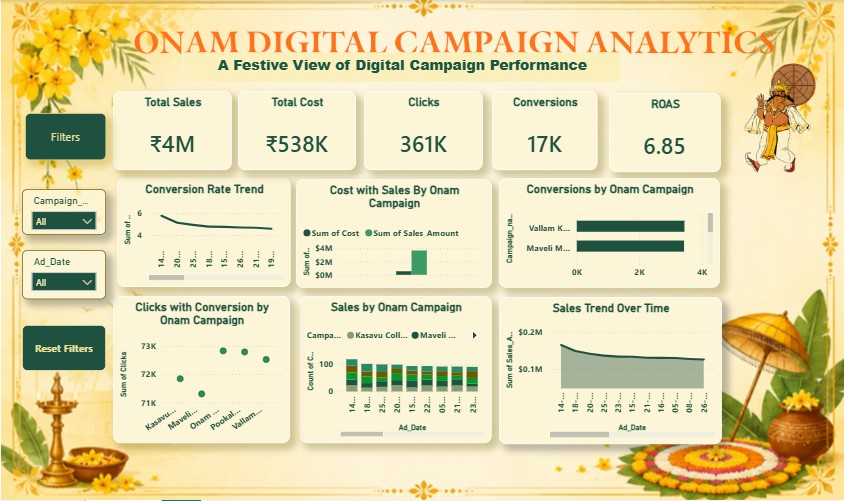

The page's visual inventory and layout, read from the dashboard file:
{"tool":"powerbi","page":{"name":"Page 1","canvas":[1280,720],"ordinal":0},"visuals":[{"type":"textbox","title":"A Festive View of Digital Campaign Performance ","box":[294,75.6,629.9,43.7],"z":0},{"type":"lineChart","title":"Conversion Rate Trend ","fields":{"Category":["GoogleAds Cleaned Data.Ad_Date"],"Y":["Sum(GoogleAds Cleaned Data.Conversion Rate)"]},"box":[198.2,257,250.5,157.2],"z":1000},{"type":"cardVisual","title":"Total  Sales","fields":{"Data":["GoogleAds Cleaned Data.Total Sales"]},"box":[193.5,131.3,171,114],"z":2000},{"type":"cardVisual","title":"Total Cost","fields":{"Data":["GoogleAds Cleaned Data.Total Cost"]},"box":[372.9,131,169.7,114.2],"z":3000},{"type":"cardVisual","title":"Clicks","fields":{"Data":["Sum(GoogleAds Cleaned Data.Clicks)"]},"box":[554.5,131.3,171,114],"z":4000},{"type":"cardVisual","title":"Conversions","fields":{"Data":["Sum(GoogleAds Cleaned Data.Conversions)"]},"box":[738.3,131.6,152.1,114.5],"z":5000},{"type":"cardVisual","title":"ROAS","fields":{"Data":["GoogleAds Cleaned Data.Roas"]},"box":[907.4,133.3,160.6,114.5],"z":6000},{"type":"clusteredColumnChart","title":"Cost  with Sales By Onam Campaign","fields":{"Y":["Sum(GoogleAds Cleaned Data.Cost )","Sum(GoogleAds Cleaned Data.Sales_Amount)"]},"box":[456.5,257.8,282.2,157],"z":7000},{"type":"barChart","title":"Conversions by Onam Campaign","fields":{"Category":["GoogleAds Cleaned Data.Campaign_name"],"Y":["Sum(GoogleAds Cleaned Data.Conversions)"]},"box":[748.8,256.3,318.2,158.4],"z":8000},{"type":"columnChart","title":" Sales by Onam Campaign","fields":{"Category":["GoogleAds Cleaned Data.Ad_Date"],"Series":["GoogleAds Cleaned Data.Campaign_name"],"Y":["CountNonNull(GoogleAds Cleaned Data.Campaign_name)"]},"box":[462.7,426.7,275.9,212.5],"z":9000},{"type":"scatterChart","title":"Clicks with Conversion by Onam Campaign","fields":{"X":["GoogleAds Cleaned Data.Campaign_name"],"Y":["Sum(GoogleAds Cleaned Data.Clicks)"]},"box":[193.6,426.7,255.3,212.5],"z":10000},{"type":"areaChart","title":"Sales Trend Over Time","fields":{"Category":["GoogleAds Cleaned Data.Ad_Date"],"Y":["Sum(GoogleAds Cleaned Data.Sales_Amount)"]},"box":[748.8,427.7,321.1,211.7],"z":11000},{"type":"slicer","fields":{"Values":["GoogleAds Cleaned Data.Campaign_name"]},"box":[61.9,272.2,120.9,65.5],"z":12000},{"type":"slicer","fields":{"Values":["GoogleAds Cleaned Data.Ad_Date"]},"box":[61.9,360,120.9,70.6],"z":13000},{"type":"actionButton","box":[61.9,468,121,66.2],"z":14000},{"type":"actionButton","box":[66.2,162.7,116.6,67.7],"z":15000}]}

Visuals, with their boxes on the page's 1280x720 design canvas (x1, y1, x2, y2). These are canvas units, not pixel positions in the 844x501 screenshot, which may show the page scaled, cropped or inside an application window:
"A Festive View of Digital Campaign Performance " textbox: box=[294, 76, 924, 119]
"Conversion Rate Trend " lineChart: box=[198, 257, 449, 414]
"Total  Sales" cardVisual: box=[194, 131, 364, 245]
"Total Cost" cardVisual: box=[373, 131, 543, 245]
"Clicks" cardVisual: box=[554, 131, 726, 245]
"Conversions" cardVisual: box=[738, 132, 890, 246]
"ROAS" cardVisual: box=[907, 133, 1068, 248]
"Cost  with Sales By Onam Campaign" clusteredColumnChart: box=[456, 258, 739, 415]
"Conversions by Onam Campaign" barChart: box=[749, 256, 1067, 415]
" Sales by Onam Campaign" columnChart: box=[463, 427, 739, 639]
"Clicks with Conversion by Onam Campaign" scatterChart: box=[194, 427, 449, 639]
"Sales Trend Over Time" areaChart: box=[749, 428, 1070, 639]
slicer - GoogleAds Cleaned Data.Campaign_name: box=[62, 272, 183, 338]
slicer - GoogleAds Cleaned Data.Ad_Date: box=[62, 360, 183, 431]
actionButton: box=[62, 468, 183, 534]
actionButton: box=[66, 163, 183, 230]
